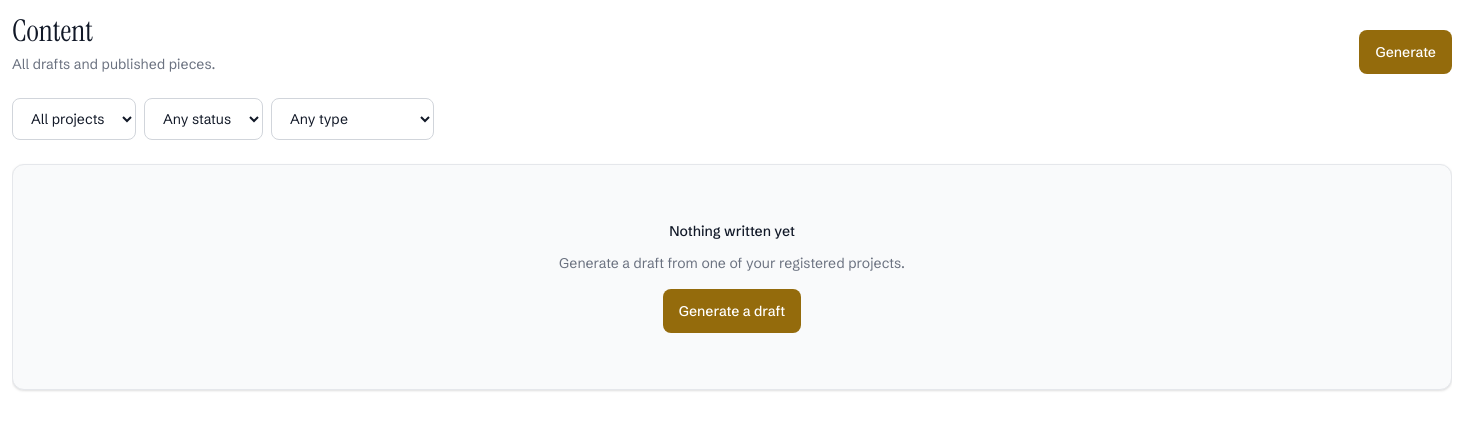
Test case: loading and empty states › says nothing matches, distinct from nothing written, once a filter is applied
The width and height of the screenshot is (1464, 426).
Expected: the text "Nothing written yet" is shown, top-left (669, 220), bottom-right (795, 240)
Select "Published" in the dropdown named "Filter by status" at (204, 118), box top-left (144, 98), bottom-right (263, 140)
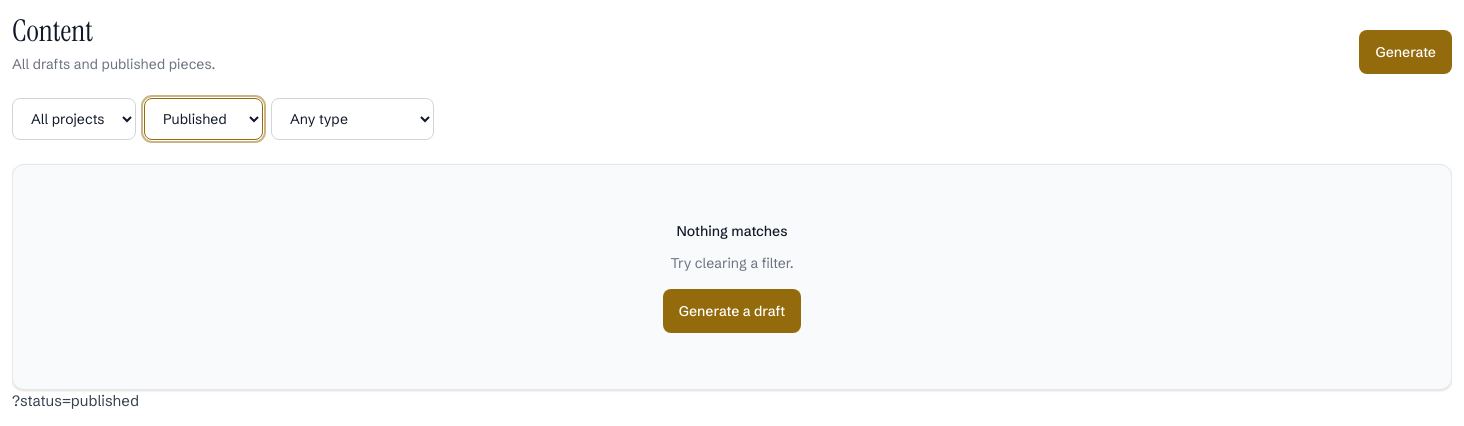
Now the text "Nothing matches" is shown, box top-left (676, 220), bottom-right (788, 240)
Now the text "Try clearing a filter." is shown, box top-left (670, 252), bottom-right (794, 272)
